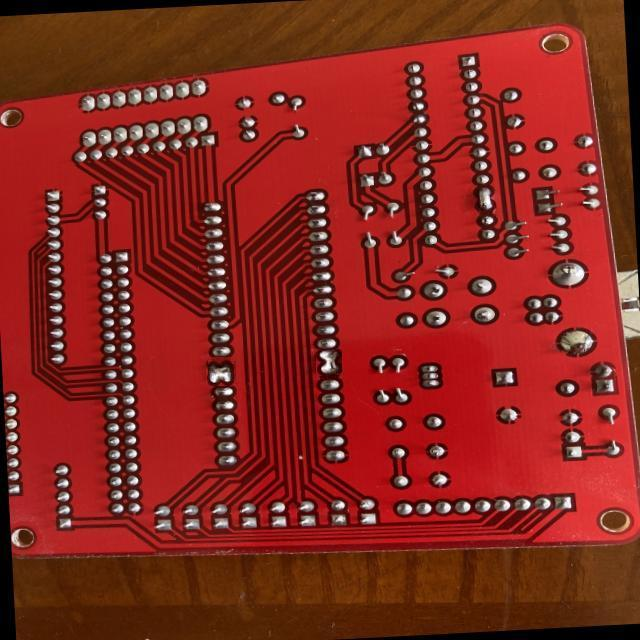damged: (207, 357, 235, 385), (316, 350, 342, 378), (472, 186, 496, 213)
